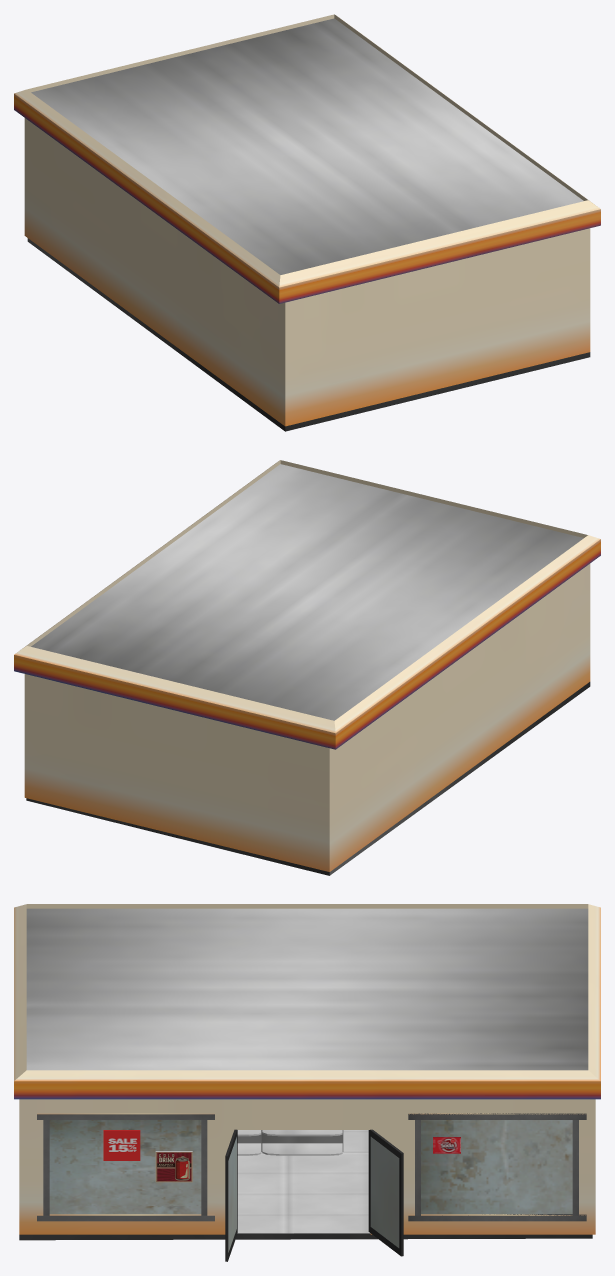
File: Gas_Station_Shop.glb
3 renders of one model, top to bottom at view 1: azimuth 30°, elevation 25°; view 2: azimuth 150°, elevation 25°; view 3: azimuth 270°, elevation 25°, orthographic. The views are drawn at different scales.
Parts seen in each view (by area): view 1: Gas_Statio_Shop; view 2: Gas_Statio_Shop; view 3: Gas_Statio_Shop.
Boxes of the visible parts, x1,y1,x2,y2 form: Gas_Statio_Shop: (14,14,600,431); Gas_Statio_Shop: (14,460,600,875); Gas_Statio_Shop: (14,904,600,1261).
Bounding box in the file's own units: 9.39 × 3.81 × 11.88.
Materials: 1 (1 with a texture image).
